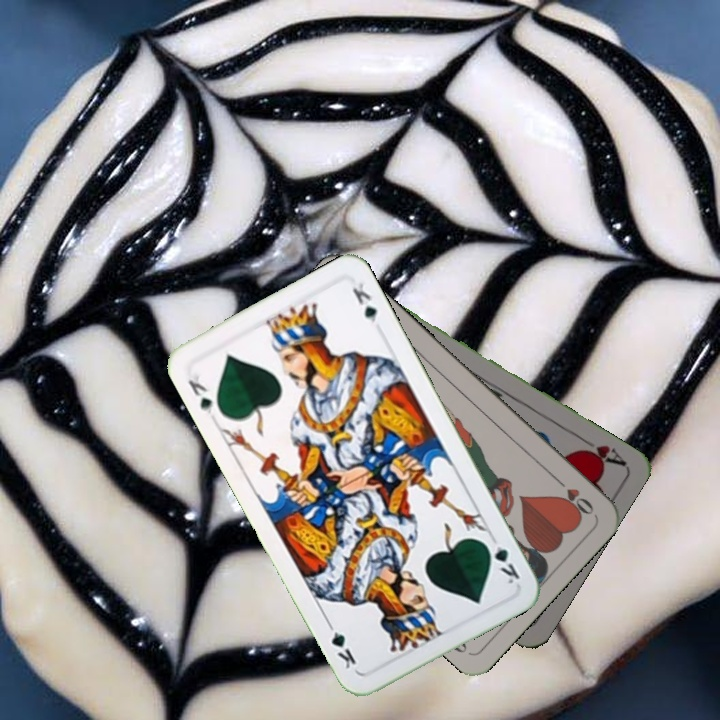GK: (480, 532, 523, 587), (184, 368, 215, 419)
HA: (573, 431, 628, 469)
HO: (550, 472, 597, 518)
